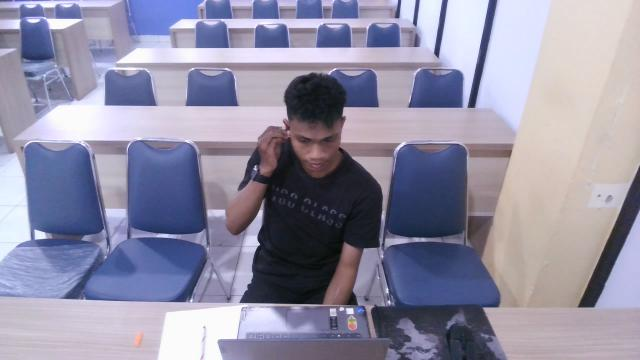Earpiece: (266, 114, 296, 155)
Head_Down_Extreme: (217, 67, 386, 319)
